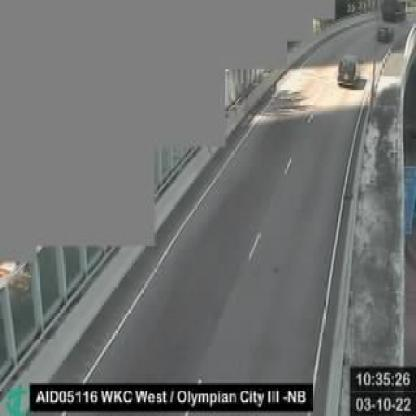Car: (336, 52, 360, 83)
